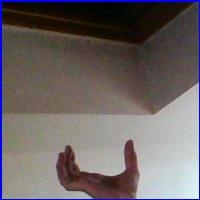space: (45, 140, 153, 198)
